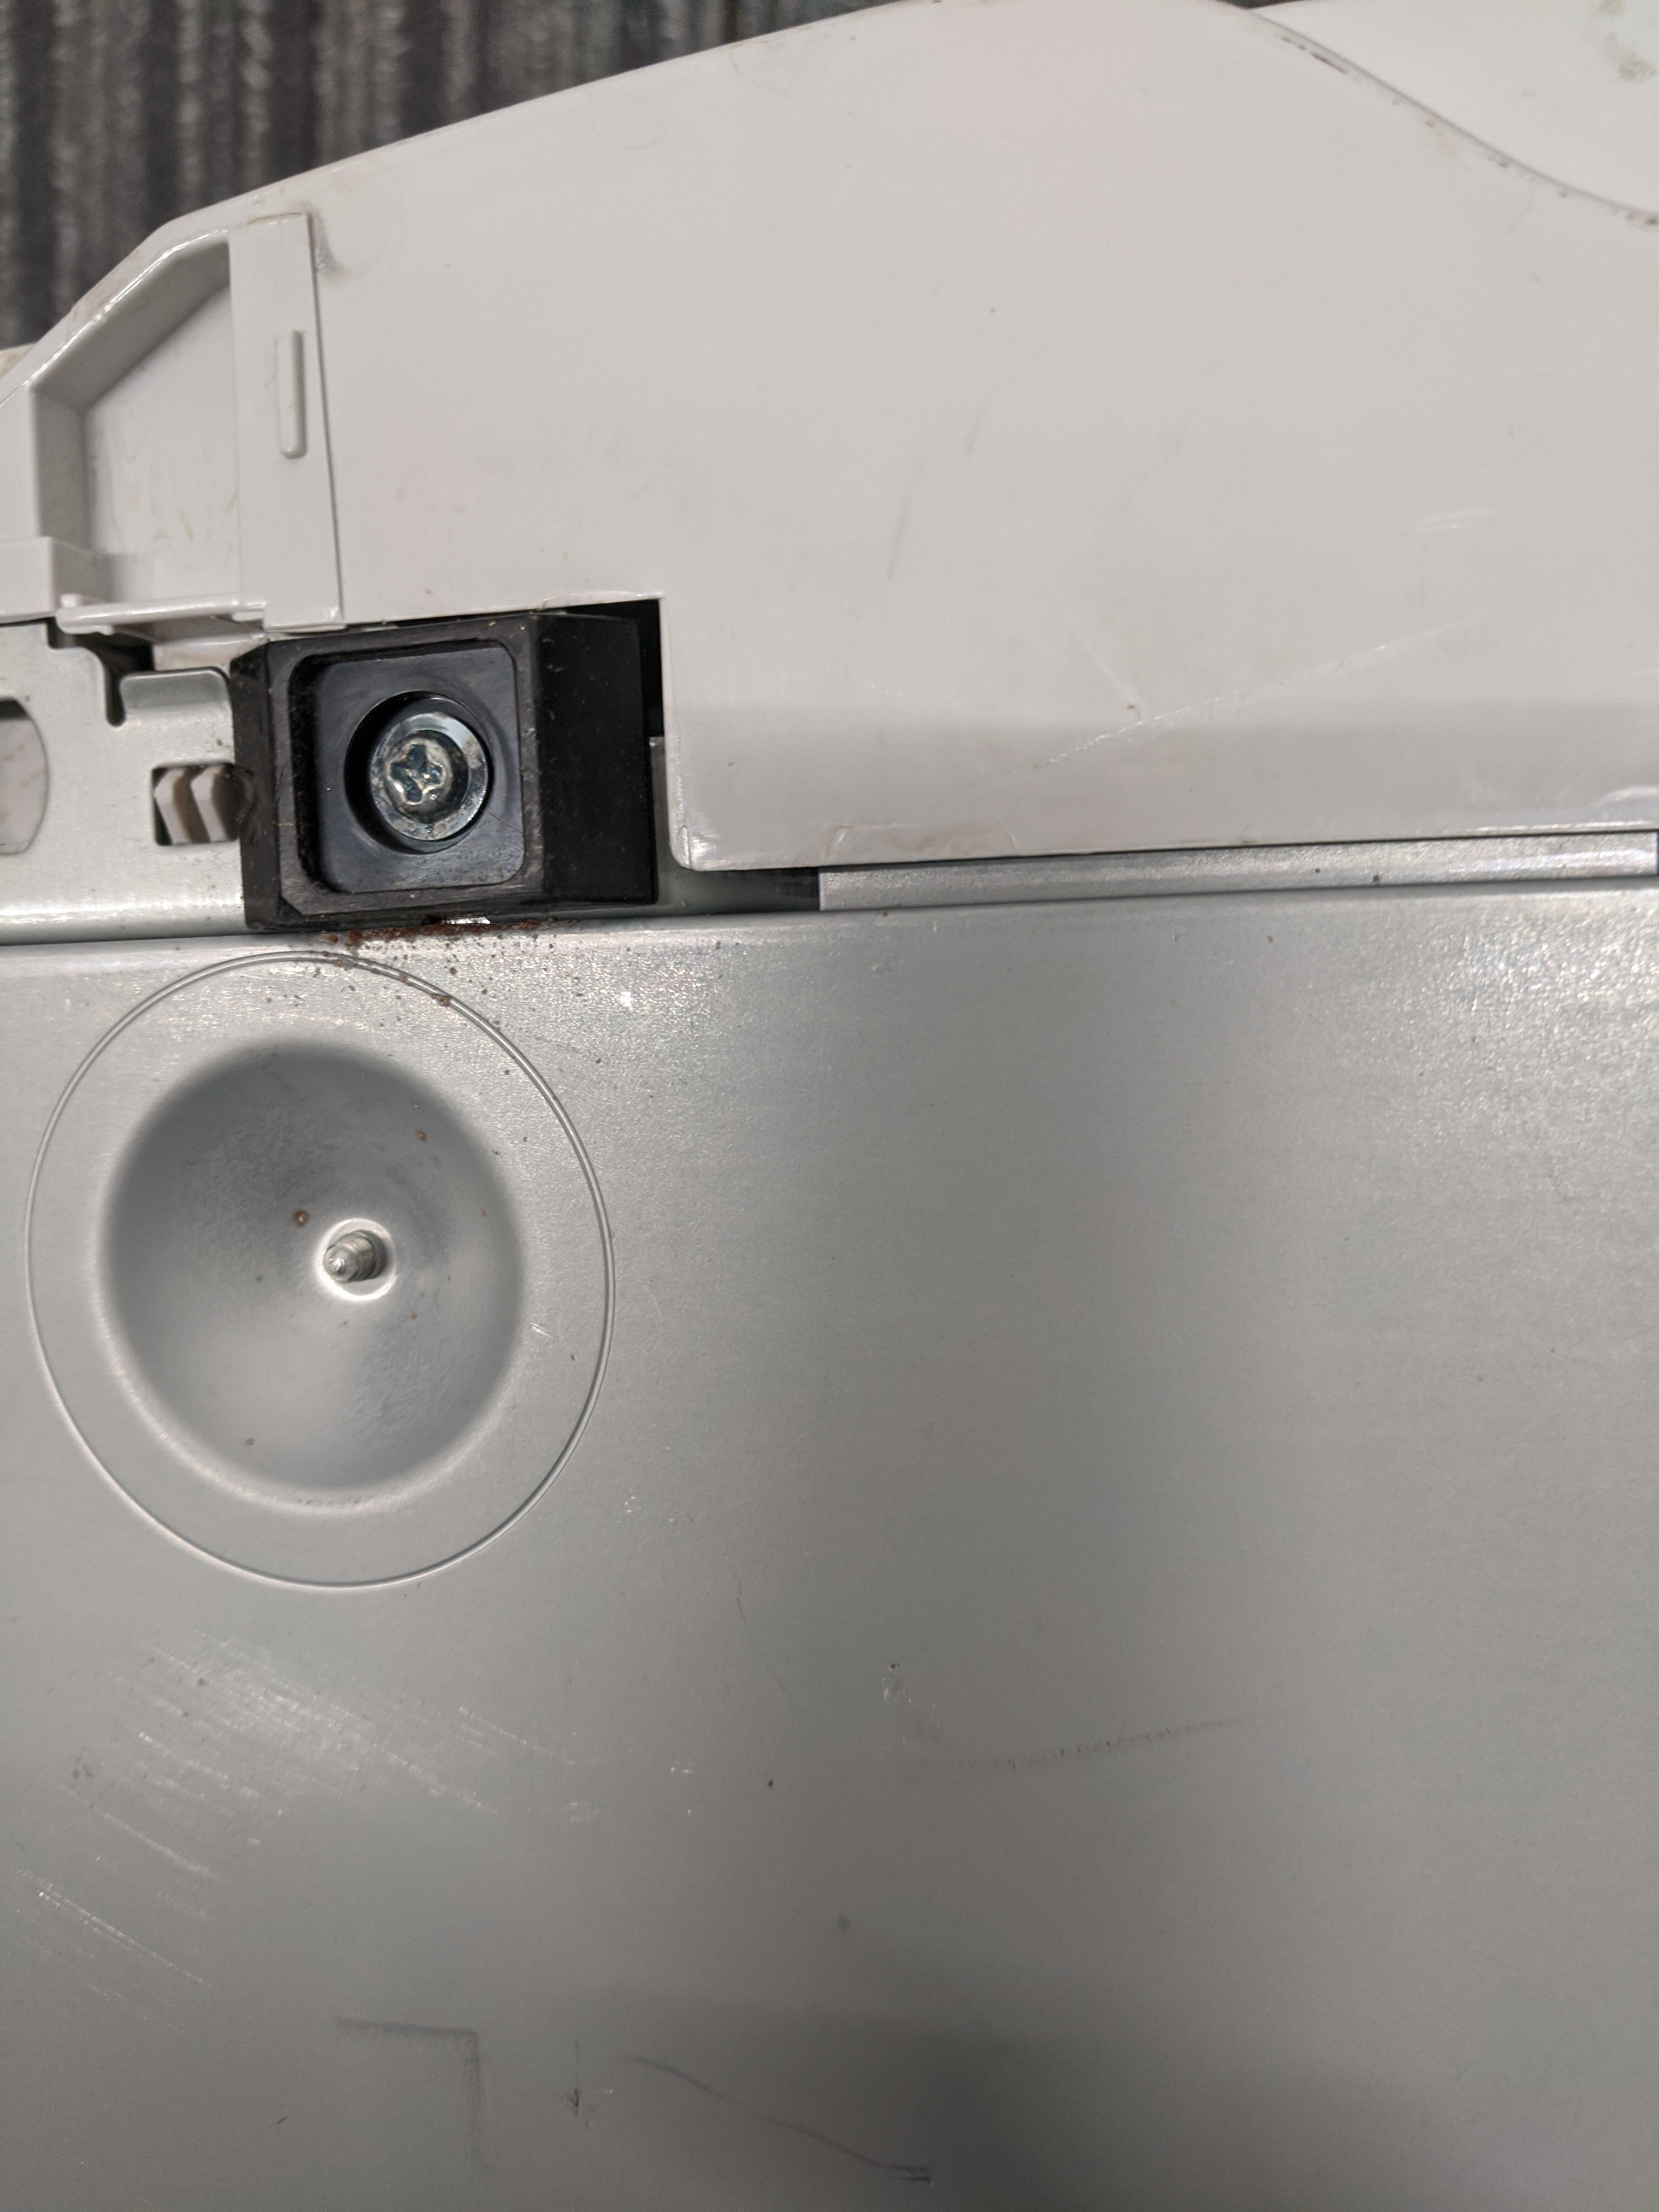cross_recessed_screw: (366, 714, 469, 815)
